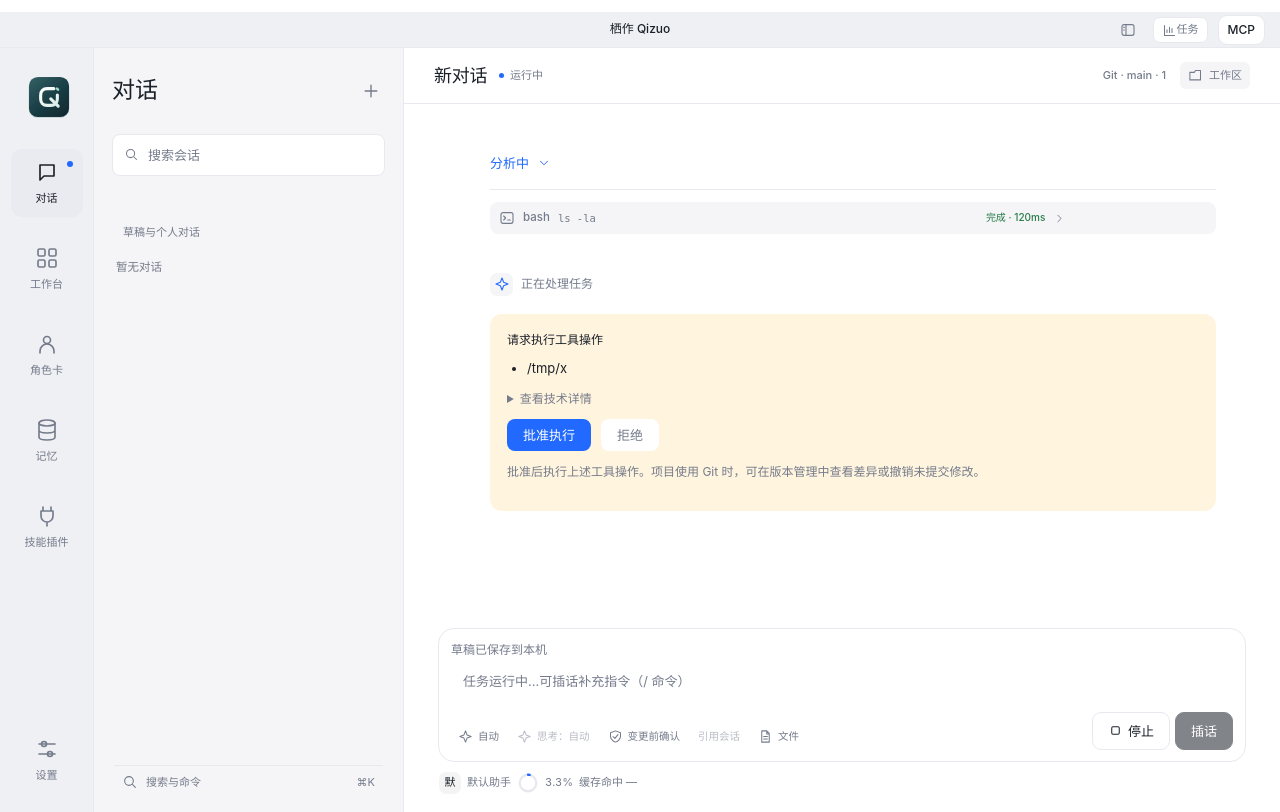
Test: M1 对话流 › 工具卡与审批卡：事件渲染 + 批准决策走真实命令
Expected: the text "bash" is shown, x1=523 y1=209 x2=550 y2=227
Expected: the text "请求执行工具操作" is shown, x1=507 y1=332 x2=603 y2=347
Step 1. Click the button "批准执行" → (549, 435), box x1=507 y1=419 x2=591 y2=451
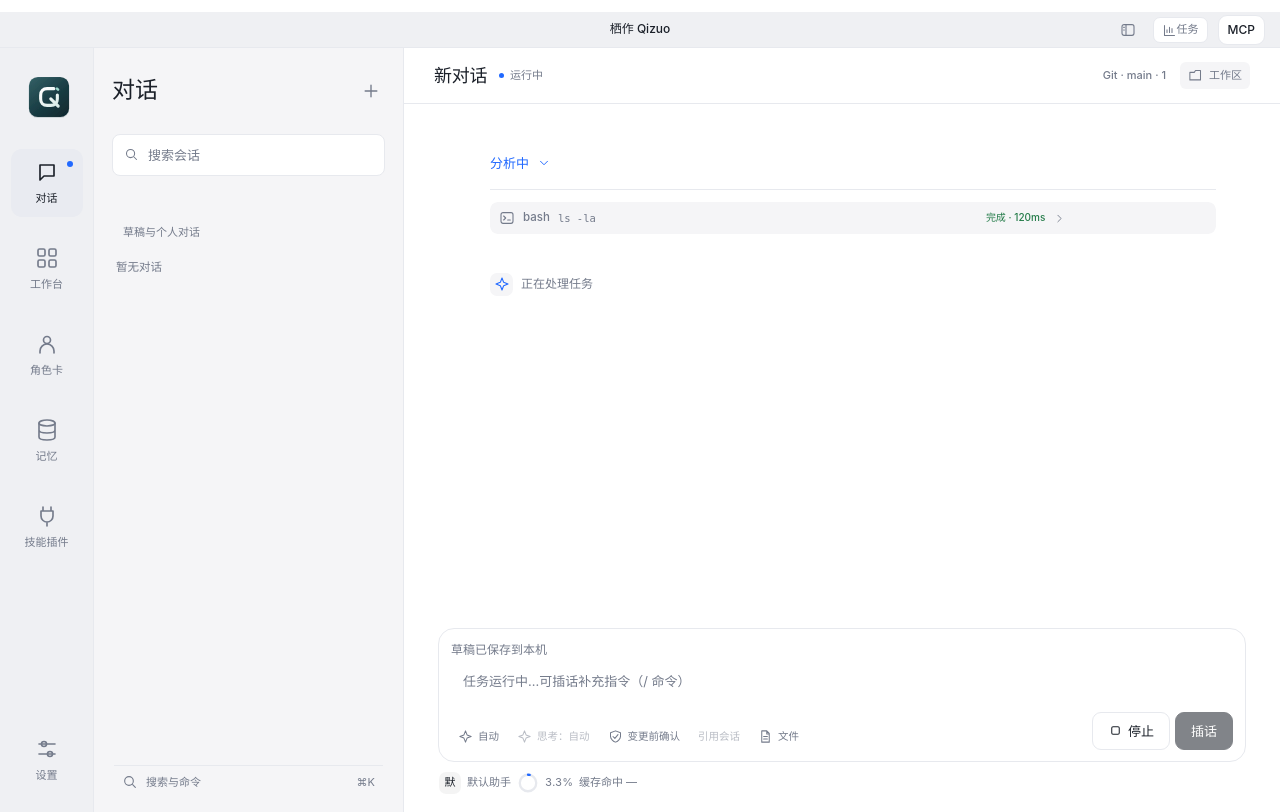
Expected: the text "请求执行工具操作" is gone
